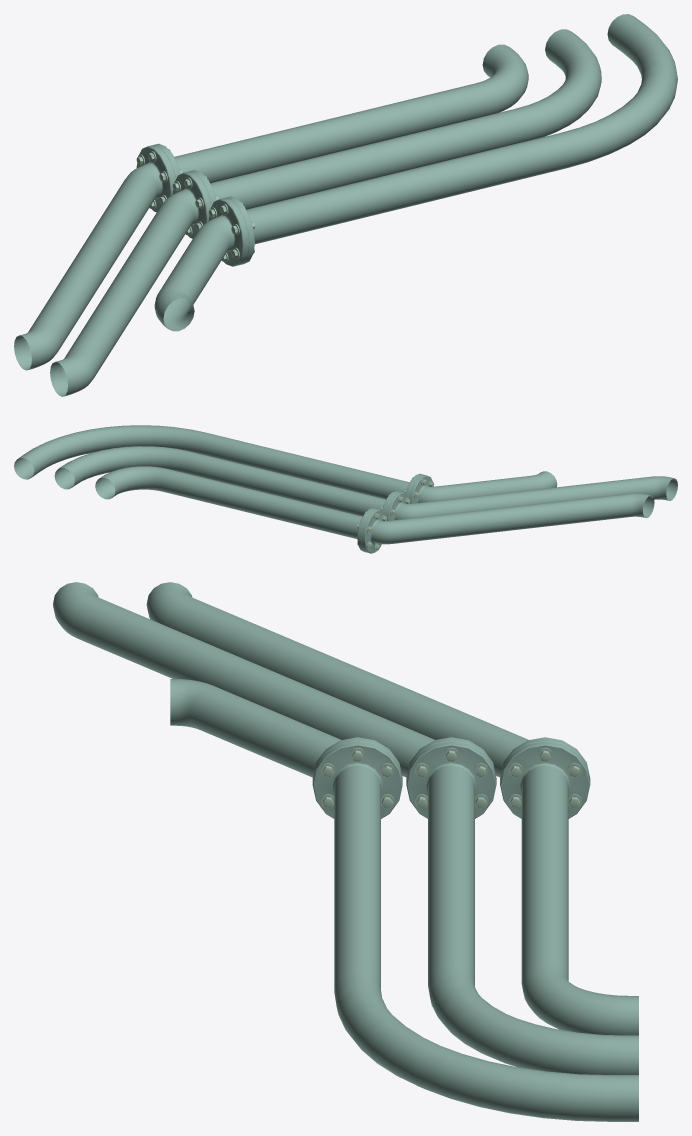
File: PipeComplexLarge_A3_18.fbx
The picture shows the model from 3 angles, top to bottom: view 1: azimuth 30°, elevation 25°; view 2: azimuth 150°, elevation 25°; view 3: azimuth 270°, elevation 25°; orthographic projection. The views are drawn at different scales.
Parts seen in each view (by area): view 1: PipeComplexLarge_A3_18.001; view 2: PipeComplexLarge_A3_18.001; view 3: PipeComplexLarge_A3_18.001.
Part boxes in pixels (<box>): PipeComplexLarge_A3_18.001: <box>14,14,677,396</box>; PipeComplexLarge_A3_18.001: <box>14,425,677,553</box>; PipeComplexLarge_A3_18.001: <box>53,582,638,1121</box>.
Bounding box in the file's own units: 5.1 × 0.3846 × 2.5.
